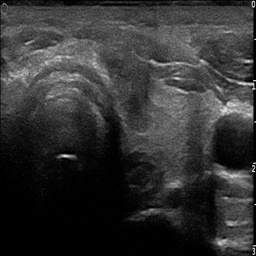mass: (98, 45, 152, 127)
